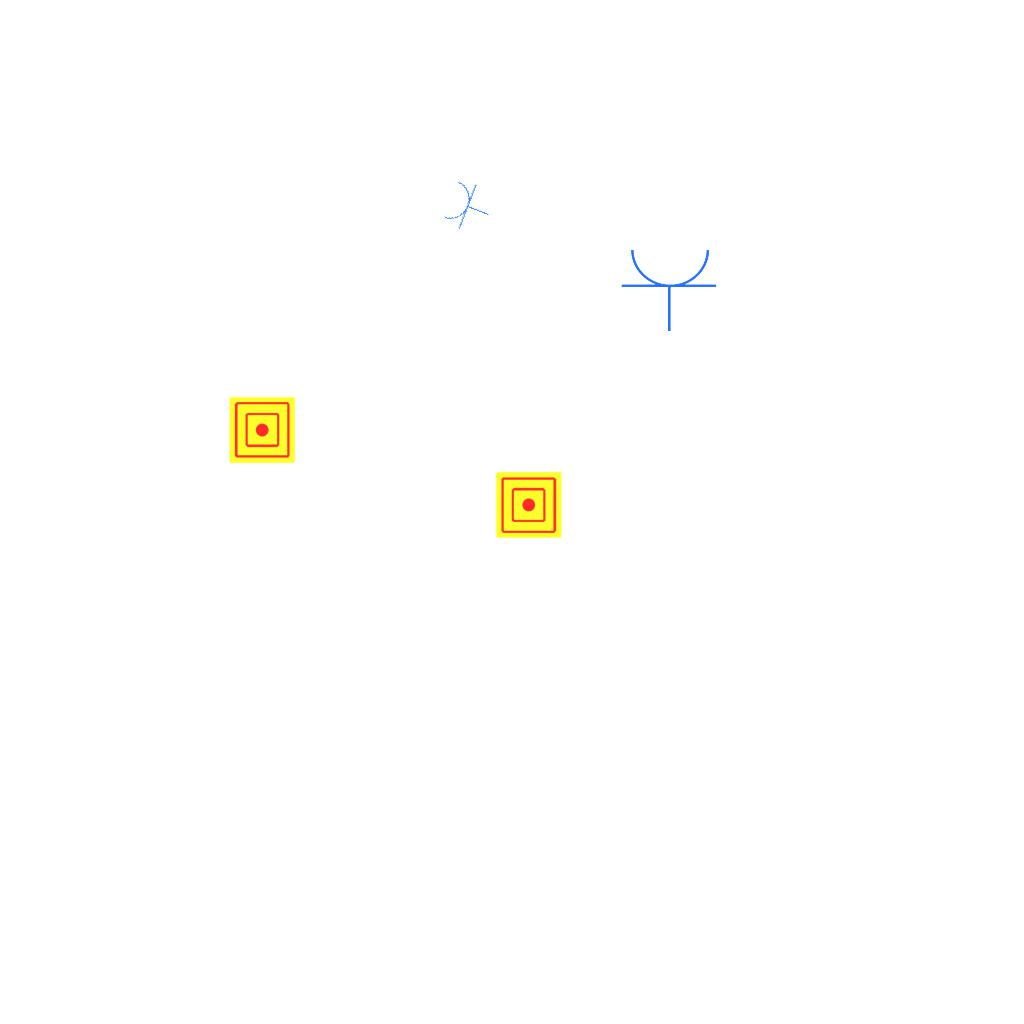NAM-Nichtautomatischer_Melder: (229, 397, 295, 463), (496, 472, 562, 538)
Schukosteckdose_einfach: (620, 245, 720, 332), (439, 175, 499, 238)
